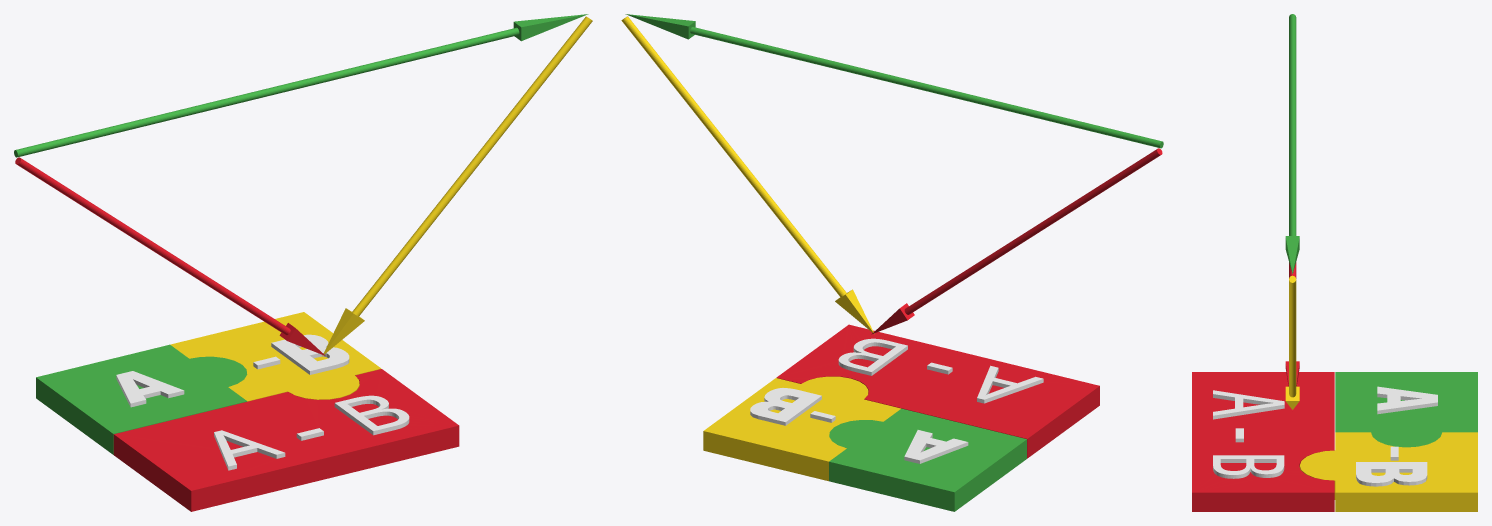
Rendered from tinker.obj.
3 views of the same model, side by side, from view 1: azimuth 30°, elevation 25°; view 2: azimuth 150°, elevation 25°; view 3: azimuth 270°, elevation 25° (orthographic). The views are drawn at different scales.
Parts seen in each view (by area): view 1: group_0_15277357, group_0_4634441, group_0_16768282, group_0_16448250; view 2: group_0_15277357, group_0_4634441, group_0_16768282, group_0_16448250; view 3: group_0_15277357, group_0_16768282, group_0_4634441, group_0_16448250.
Boxes of the visible parts, x1,y1,x2,y2 form: group_0_15277357: (15, 157, 459, 511); group_0_4634441: (14, 14, 588, 454); group_0_16768282: (170, 16, 592, 401); group_0_16448250: (116, 334, 409, 470); group_0_15277357: (776, 148, 1162, 458); group_0_4634441: (625, 14, 1163, 511); group_0_16768282: (621, 16, 900, 481); group_0_16448250: (750, 338, 1043, 463); group_0_15277357: (1192, 262, 1334, 511); group_0_16768282: (1285, 275, 1477, 511); group_0_4634441: (1285, 14, 1477, 447); group_0_16448250: (1213, 386, 1437, 486).
Size of the model in its own units: 86 by 51 by 40.12.
